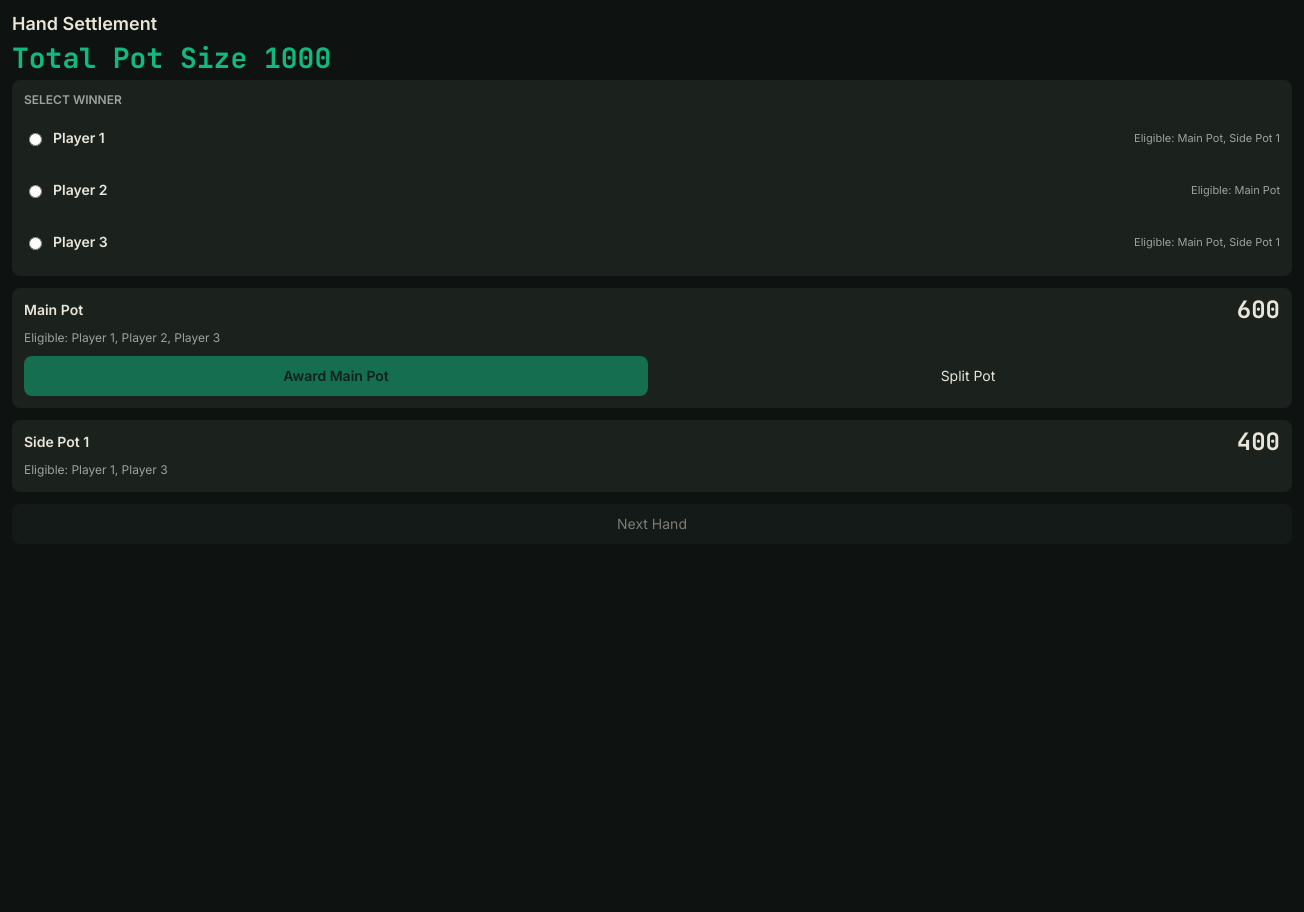
SettlementScreen › cancel leaves split mode without committing
This screenshot has width=1304, height=912.
Click the button "Split Pot". click: (968, 376)
box: left=656, top=356, right=1280, bottom=396
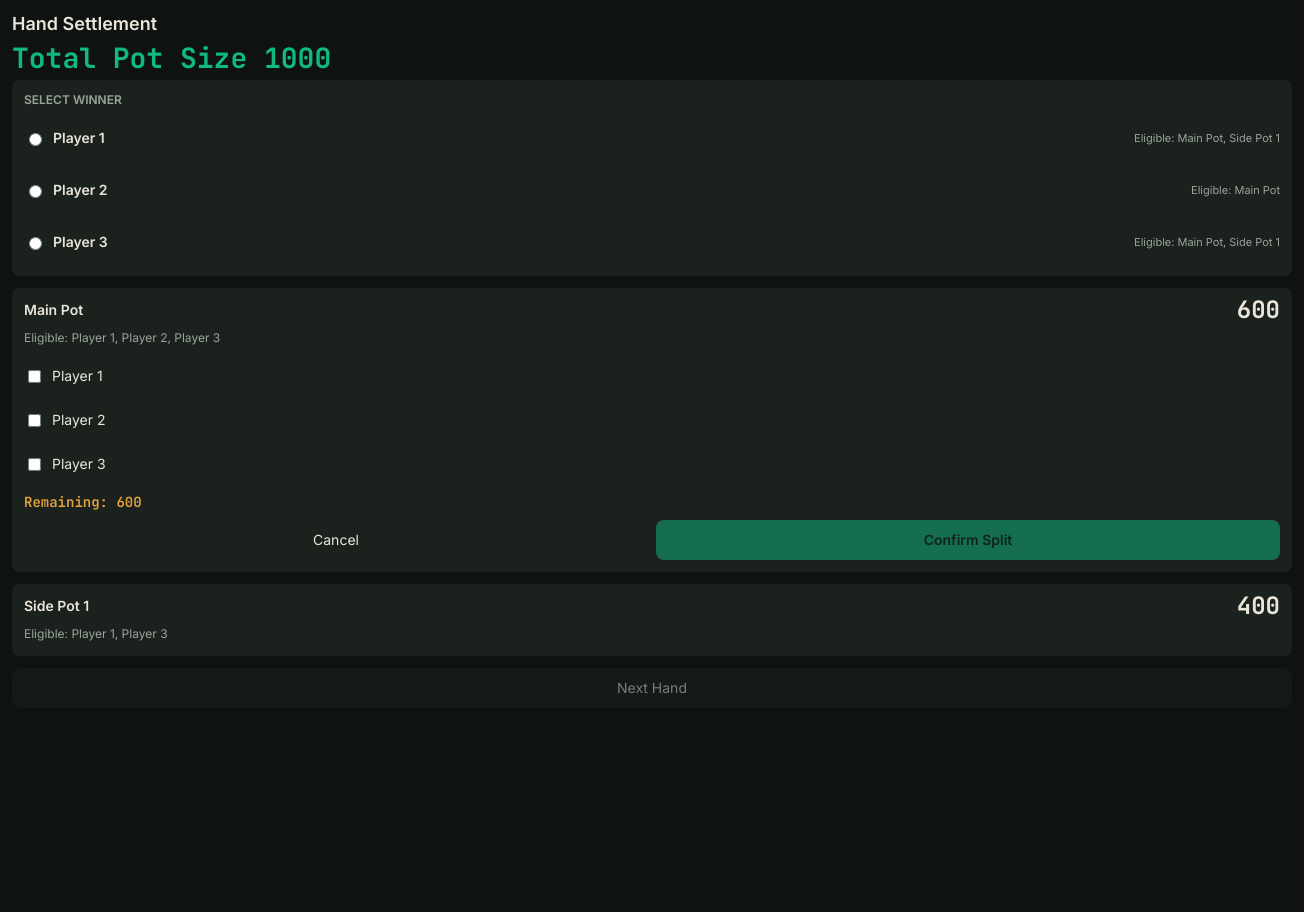
Click the checkbox labelled "Player 1". click: (34, 376)
box: left=28, top=370, right=41, bottom=382
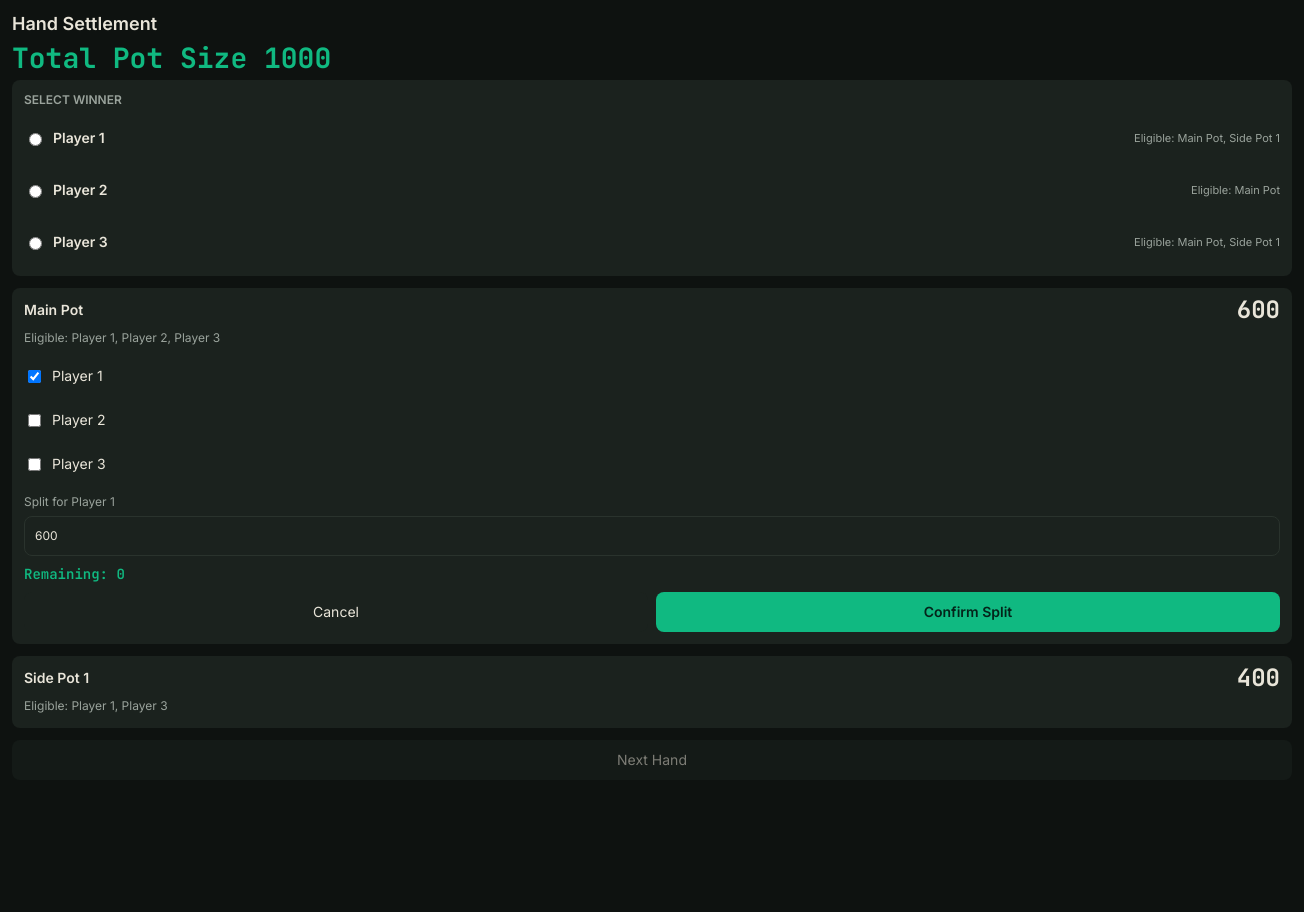
Click the button "Cancel". click: (336, 612)
box: left=24, top=592, right=648, bottom=632
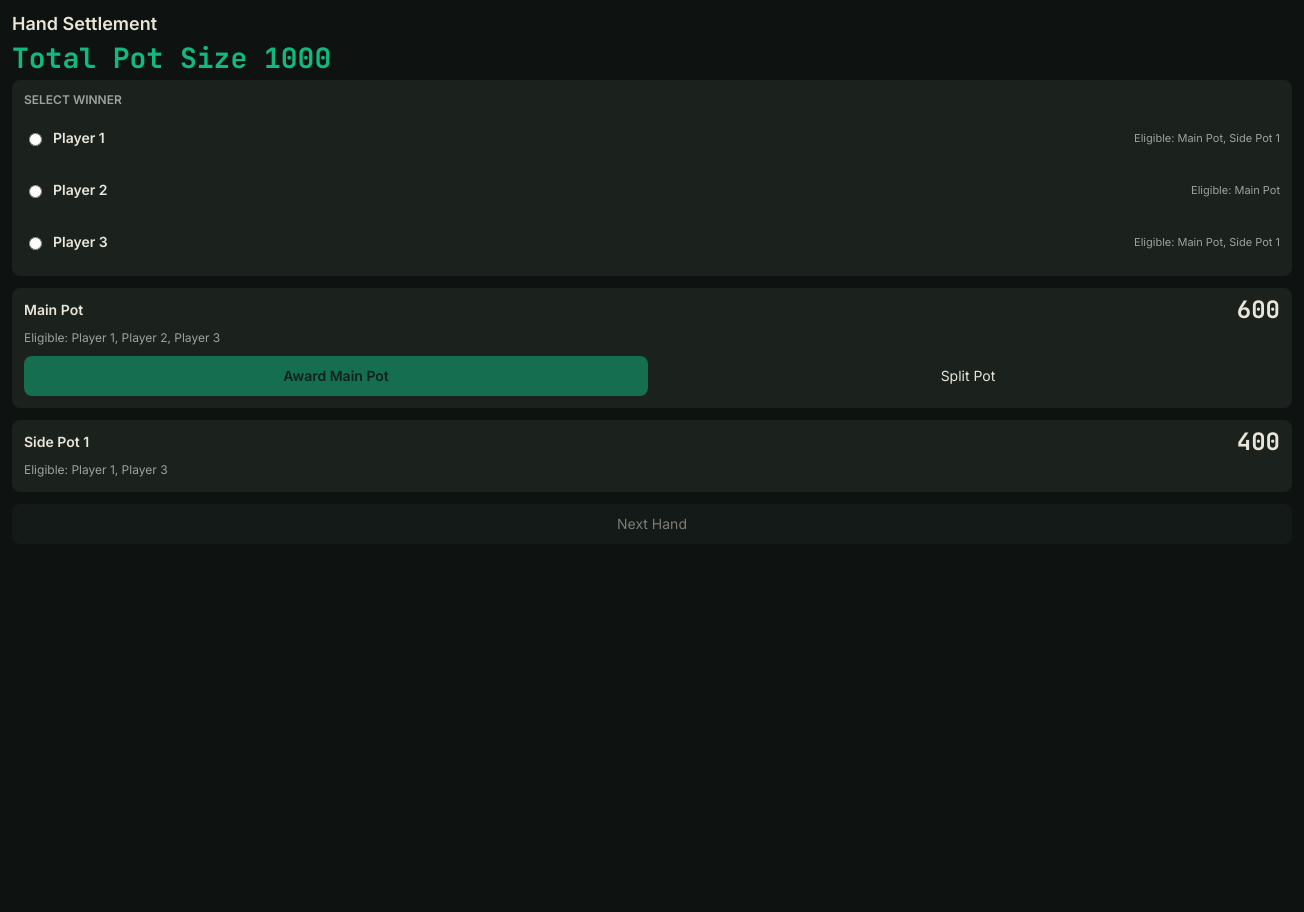
Now the checkbox is gone
